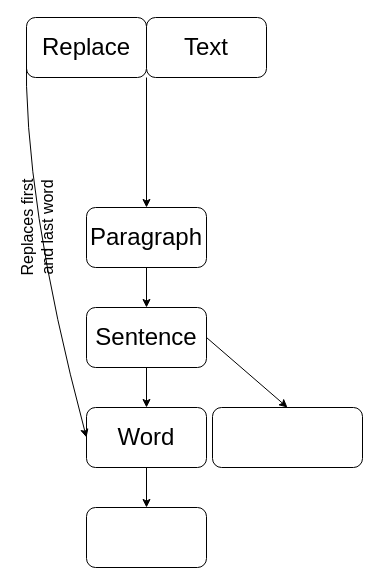
This 380x585 diagram has some shape labels left out. The shapes that lost their labels are listed below. From the top down, each one's centre as x and y in pixels, then its label:
At (x=287, y=437): "Punctuation".
At (x=146, y=537): "Letter".
